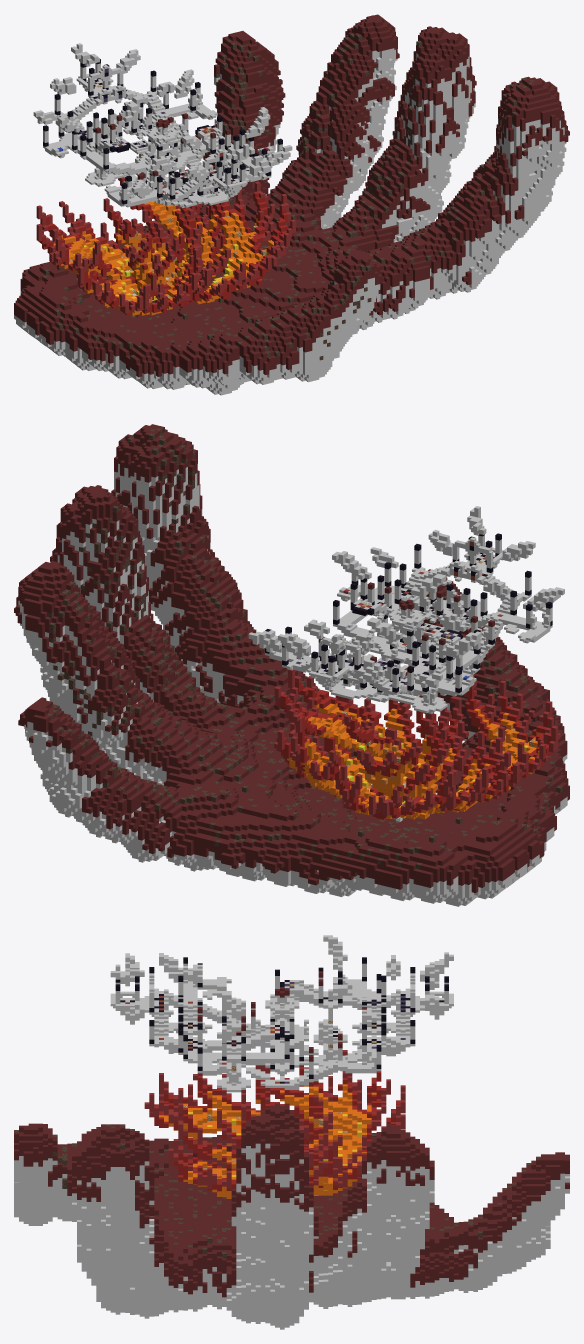
The model's file is minecraft.obj.
3 views of the same model, one above another, from view 1: azimuth 30°, elevation 25°; view 2: azimuth 150°, elevation 25°; view 3: azimuth 270°, elevation 25° (orthographic). The views are drawn at different scales.
Size of the model in its own units: 118 by 64 by 115.
